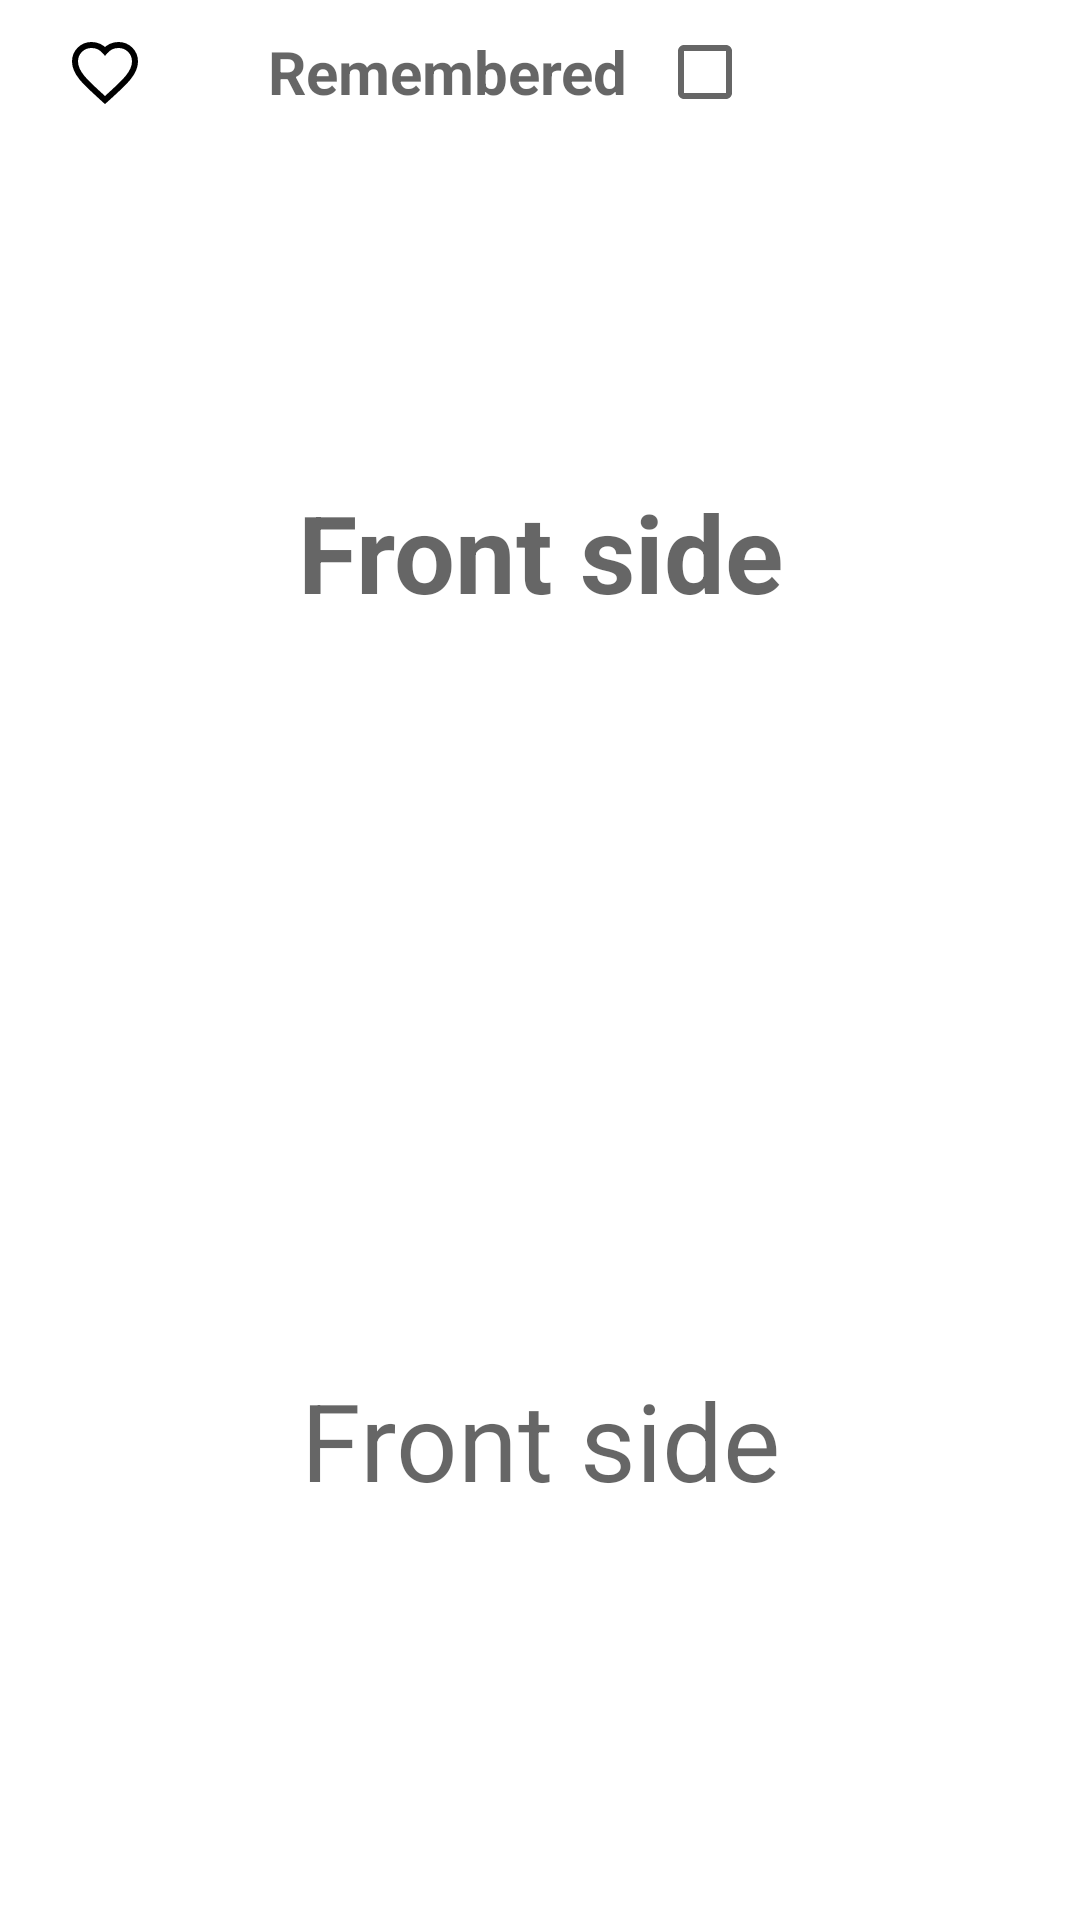

Icon click points for this 1080px×1920px phone screenshot, format point (x, y):
heart: point (105, 73)
